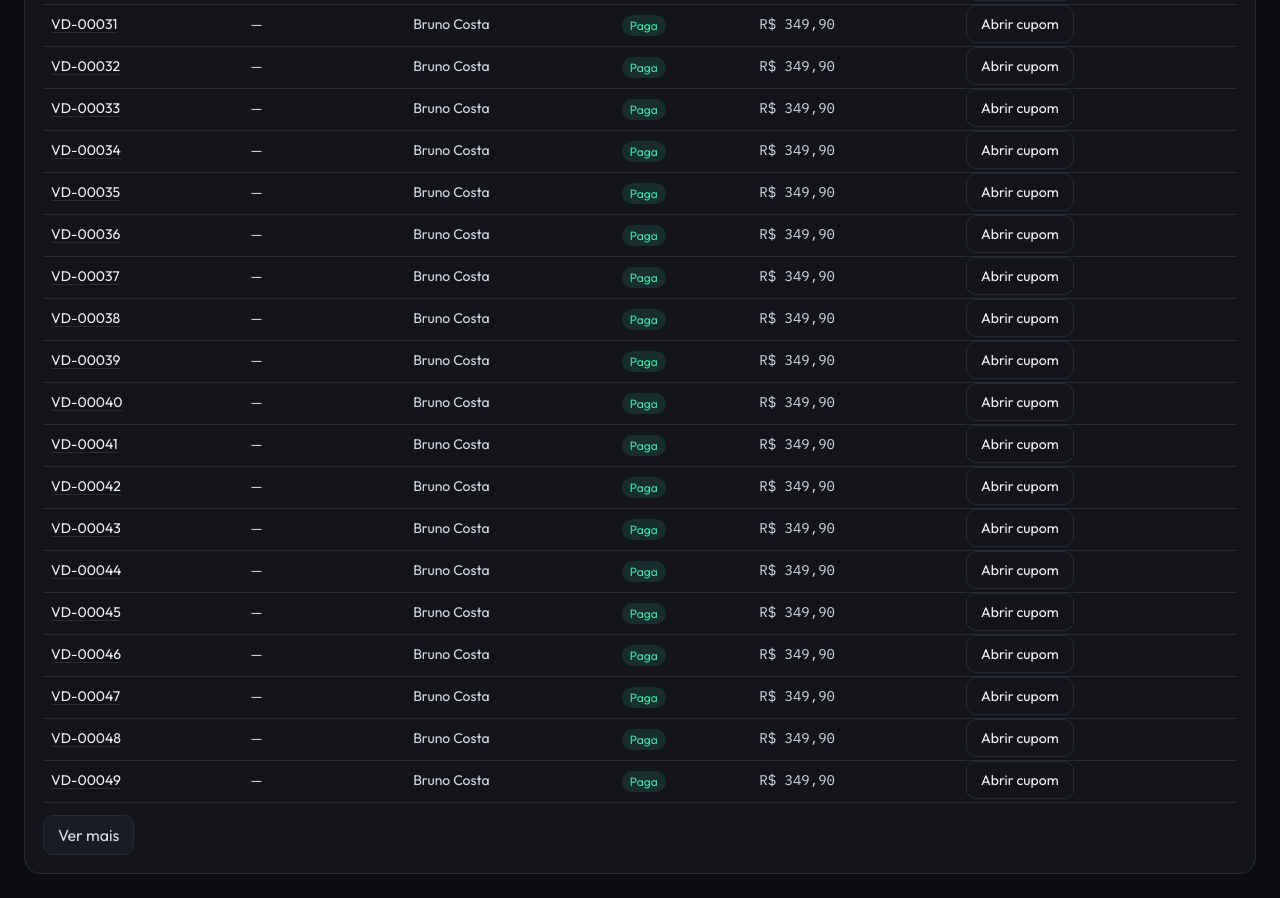
Test: Vendas › pede a próxima página em Ver mais
(page scrolled)
Click the button "Ver mais" at [89, 835], box left=43, top=815, right=134, bottom=855
(page scrolled)
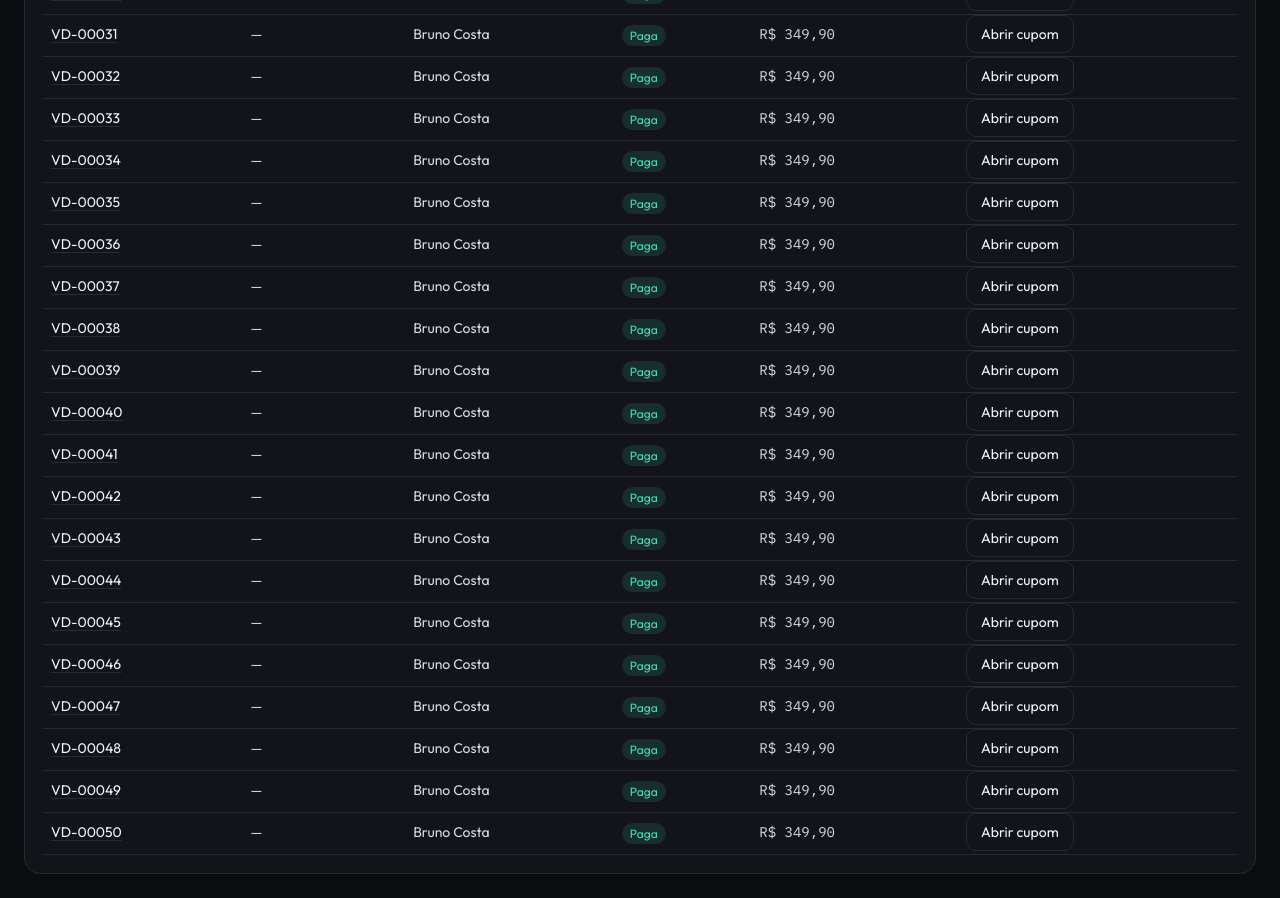
Result: the link "VD-00050" is shown at left=51, top=823, right=122, bottom=841
